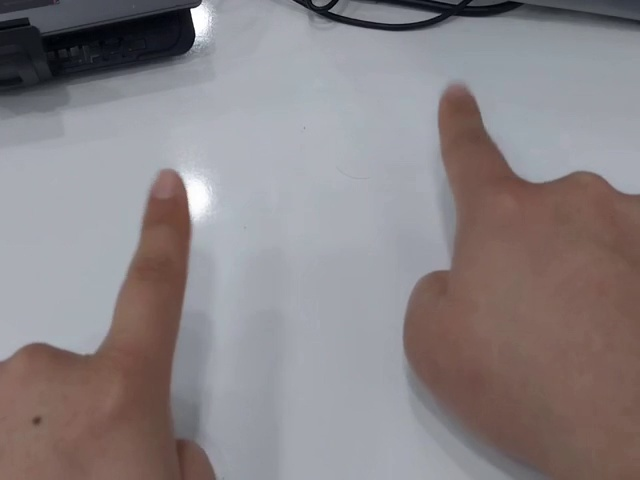fingers: (143, 168, 193, 226), (437, 83, 481, 120)
